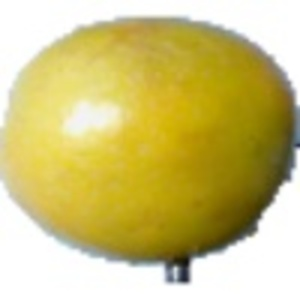maracujá: (1, 14, 300, 286)
